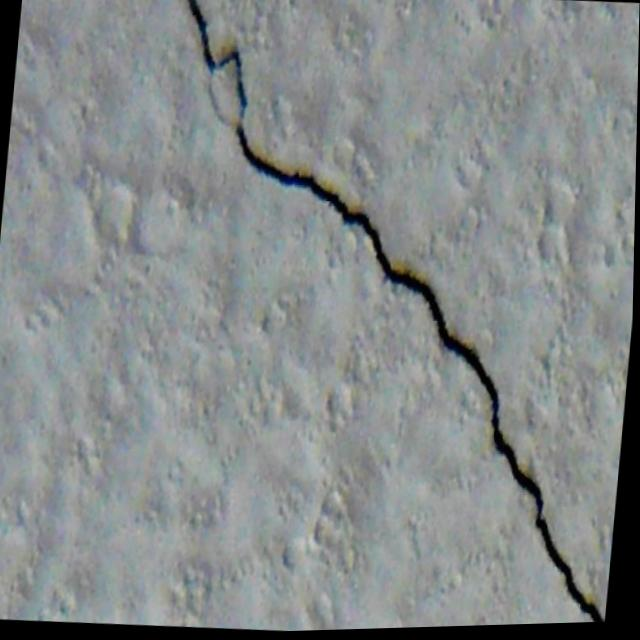Crack: (107, 0, 640, 637)
